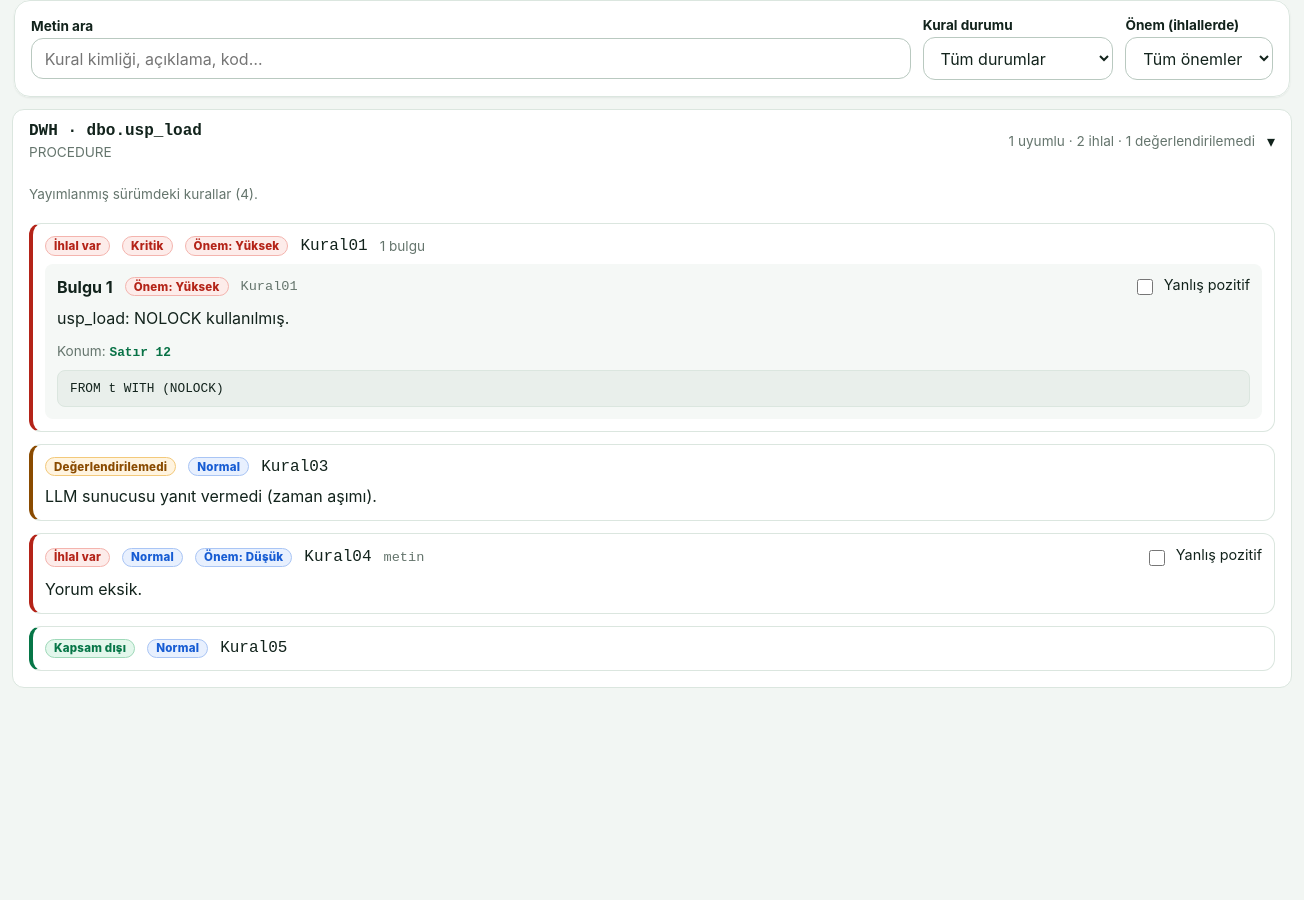
it: review results › shows the owner-only refusal without changing the mark
This screenshot has width=1304, height=900.
Step 1. Click the checkbox named "Kural01 bulgu 1 yanlış pozitif" → [1145, 287], box [1137,279,1153,295]
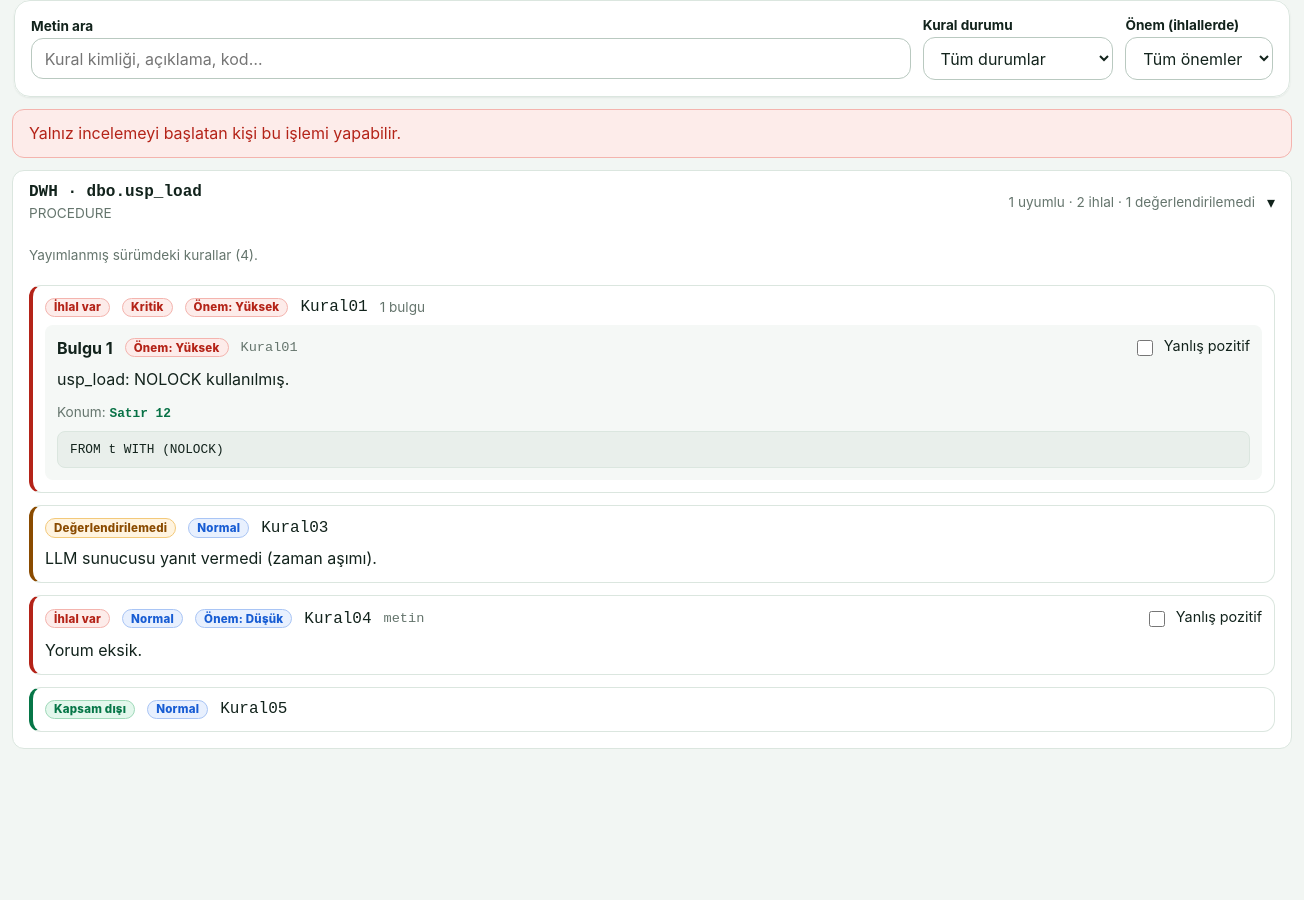
Now the message reads "Yalnız incelemeyi başlatan kişi bu işlemi yapabilir.", box [29,123,401,143]
